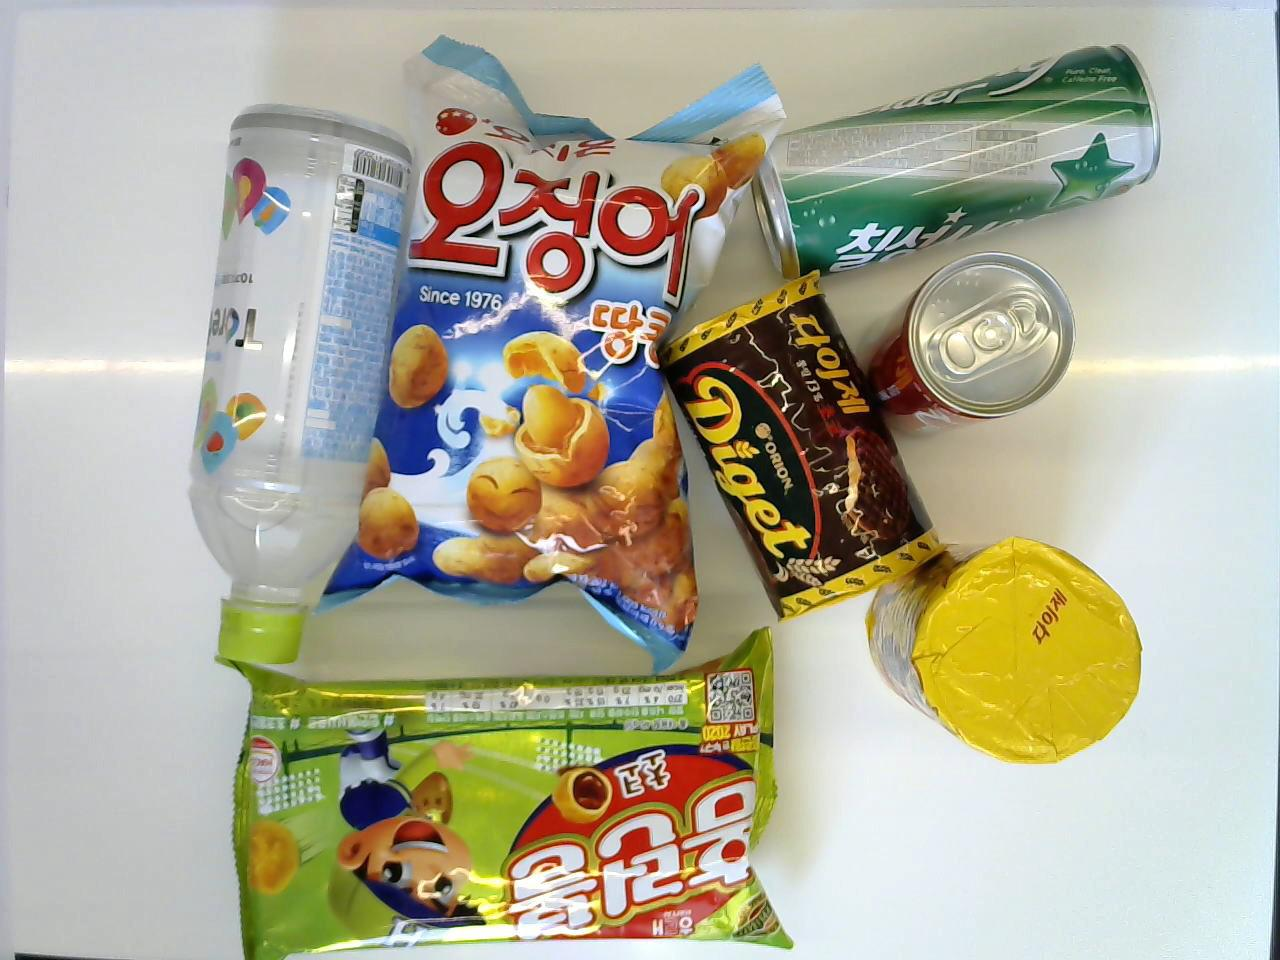cidar: (749, 41, 1161, 280)
coke: (851, 257, 1075, 446)
diget_choco: (662, 279, 944, 627)
diget_ori: (864, 541, 1141, 768)
homerunball: (226, 651, 788, 956)
squid_peanut: (310, 36, 785, 676)
toreta: (187, 101, 412, 662)
